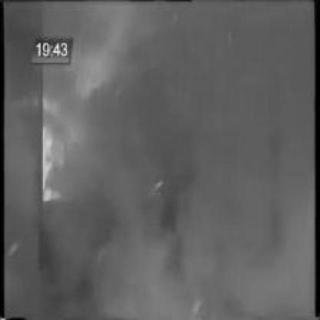Fire: (40, 100, 69, 198)
